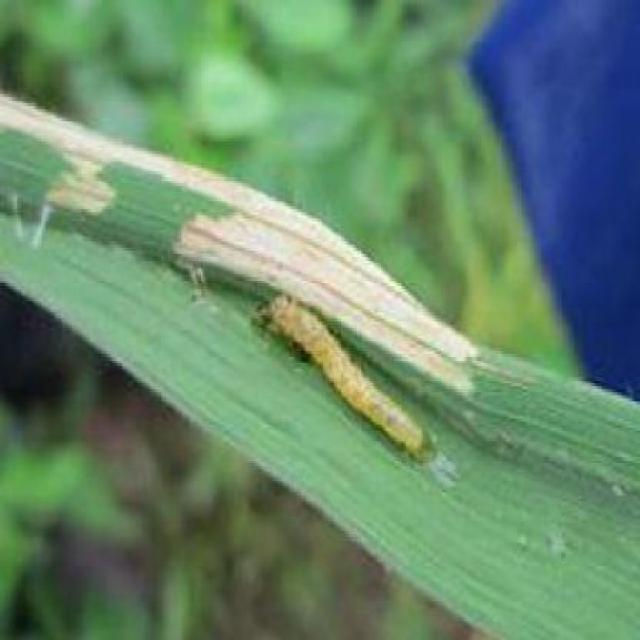leaf-folder: (258, 282, 451, 466)
